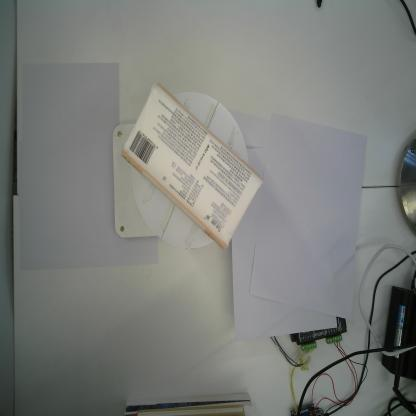Tissue: (121, 82, 263, 249)
